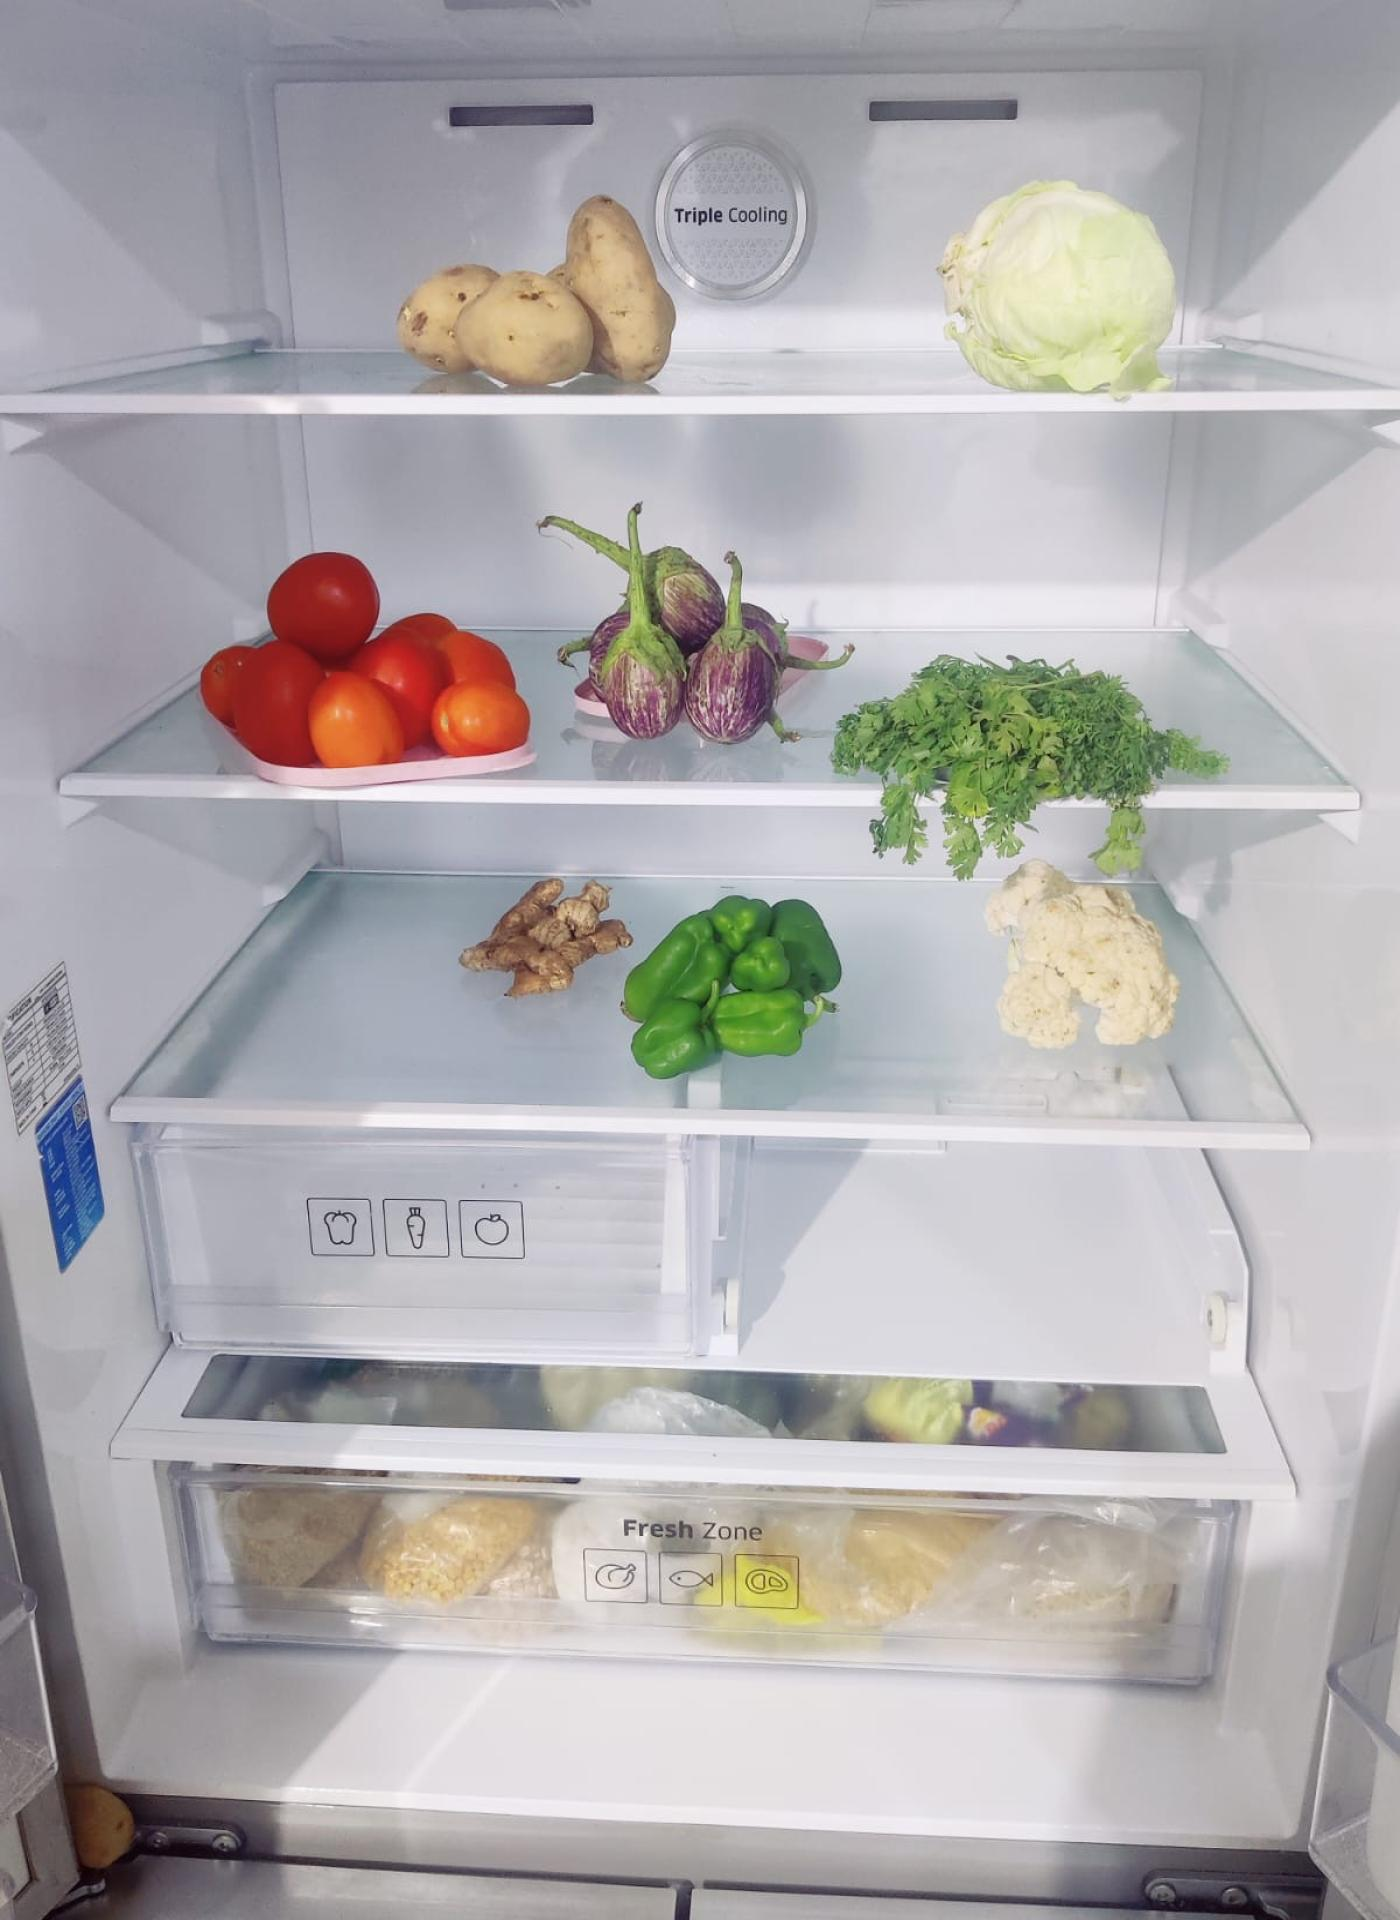brinjal: (589, 549, 787, 748)
cabbage: (944, 185, 1182, 395)
capsicum: (628, 899, 841, 1076)
cauliflower: (997, 868, 1184, 1055)
coriander: (842, 662, 1226, 829)
ginger: (465, 872, 637, 996)
potato: (398, 189, 677, 379)
tomato: (201, 544, 528, 760)
